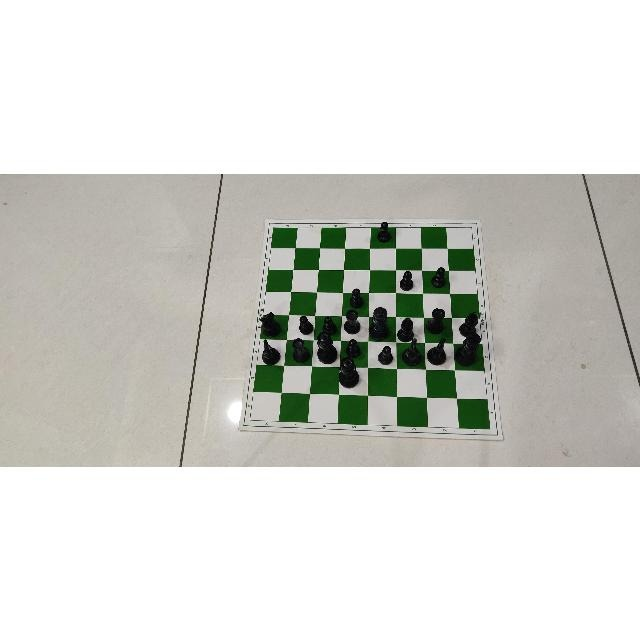black-bishop: (398, 314, 418, 342), (459, 311, 479, 337), (460, 310, 480, 335), (398, 316, 414, 342)
black-king: (455, 332, 481, 366), (455, 336, 481, 368), (313, 331, 338, 363), (368, 305, 390, 340)
black-knight: (256, 339, 281, 366), (259, 312, 283, 338), (425, 336, 446, 365), (401, 337, 421, 367), (259, 311, 280, 337), (403, 339, 422, 365), (262, 337, 280, 364), (429, 337, 447, 364)
black-pawn: (376, 218, 394, 243), (398, 267, 416, 290), (431, 264, 449, 287), (320, 315, 339, 335), (296, 315, 314, 335), (349, 283, 364, 307), (376, 220, 392, 242), (377, 340, 393, 361), (431, 266, 446, 288), (346, 337, 362, 357), (377, 345, 393, 365), (298, 315, 313, 335), (322, 315, 337, 335), (348, 287, 363, 307), (345, 338, 360, 358), (399, 270, 414, 290)
black-queen: (335, 354, 360, 390), (316, 330, 337, 364), (339, 355, 359, 388)
black-rook: (290, 336, 312, 363), (426, 307, 446, 334), (291, 337, 310, 363), (344, 307, 362, 334), (343, 308, 360, 334), (430, 305, 446, 331)
